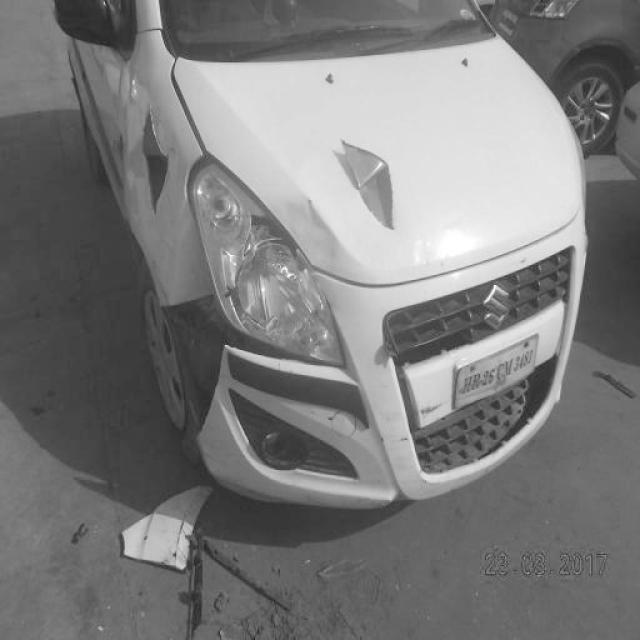car damage: (159, 294, 346, 368), (341, 140, 394, 232), (143, 102, 166, 213)
